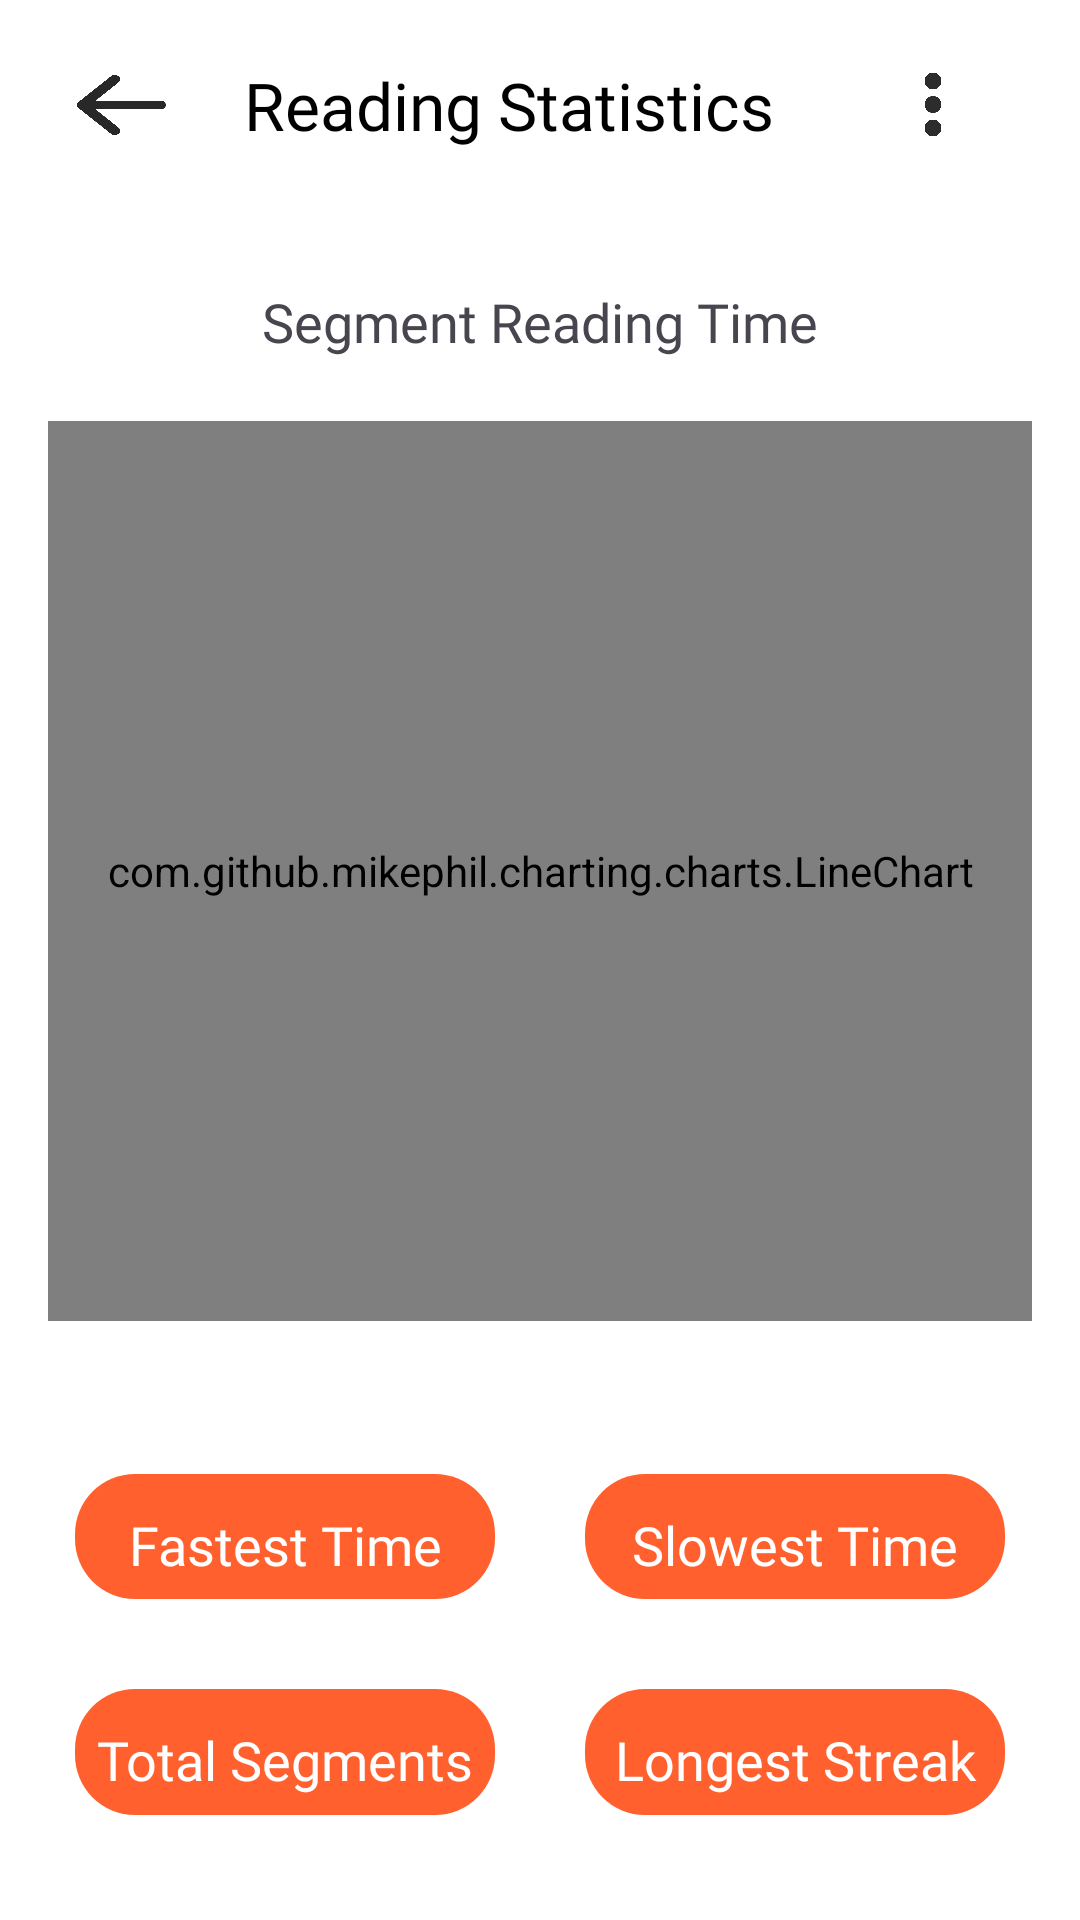

Point at icon controls on the screen. Image size 1080 × 1920, points as [x,y].
arrow: [121,105]
three vertical dots: [933,104]
